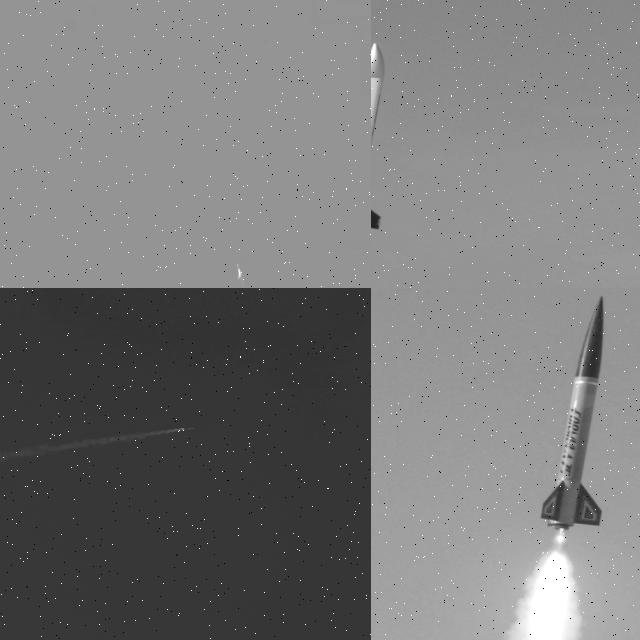Rocket: (540, 294, 606, 533), (236, 262, 243, 280), (180, 426, 197, 430)
